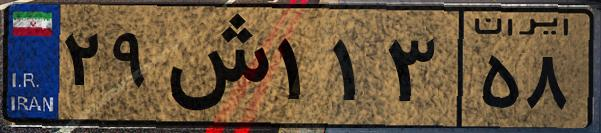1: (270, 28, 330, 110), (330, 28, 385, 110)
2: (57, 26, 110, 100)
3: (385, 28, 445, 110)
5: (475, 38, 525, 113)
8: (525, 38, 570, 115)
9: (110, 28, 158, 98)
ش: (158, 12, 270, 120)
